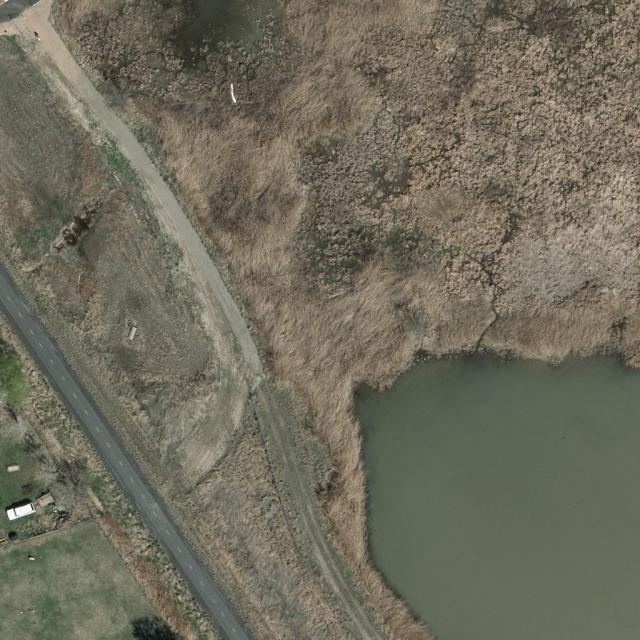vehicle: (6, 503, 36, 521)
